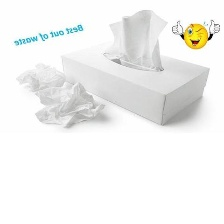book: (55, 41, 215, 129)
tissue: (12, 57, 112, 131), (104, 4, 172, 75)
